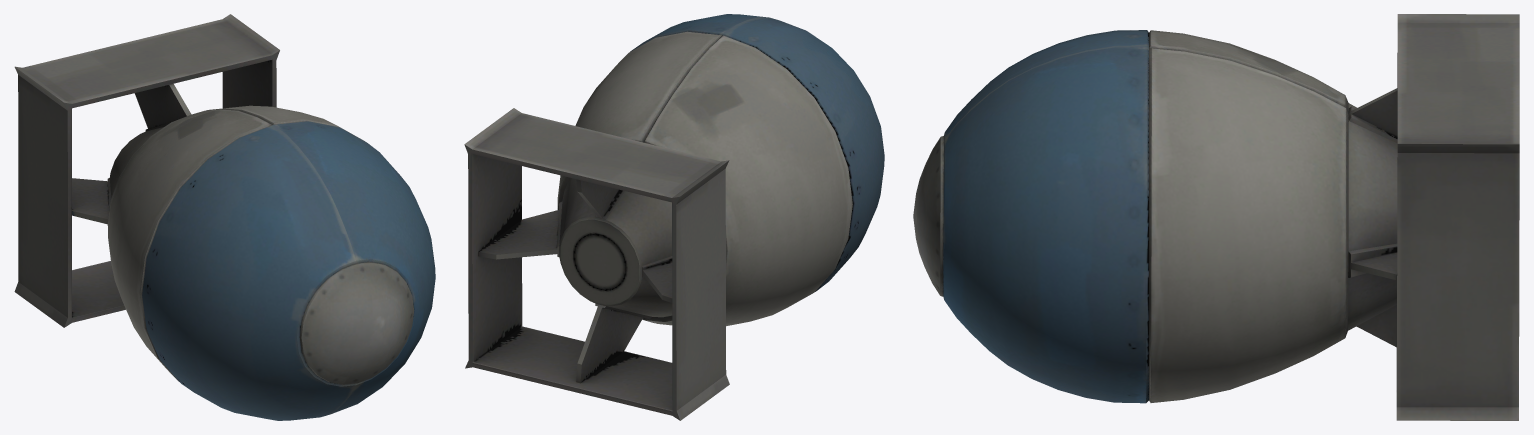
The model's file is props_trainyard_cart_bomb_separate.glb.
The picture shows the model from 3 angles, left to right: view 1: azimuth 30°, elevation 25°; view 2: azimuth 150°, elevation 25°; view 3: azimuth 270°, elevation 25°; orthographic projection. The views are drawn at different scales.
Visible parts, largest first — view 1: models/props_trainyard/cart_bomb_separate; view 2: models/props_trainyard/cart_bomb_separate; view 3: models/props_trainyard/cart_bomb_separate.
Boxes of the visible parts, <box> form: models/props_trainyard/cart_bomb_separate: <box>14,14,435,420</box>; models/props_trainyard/cart_bomb_separate: <box>464,14,884,420</box>; models/props_trainyard/cart_bomb_separate: <box>913,14,1519,420</box>.
Bounding box in the file's own units: 51.8 × 51.82 × 83.89.
Materials: 1 (1 with a texture image).
